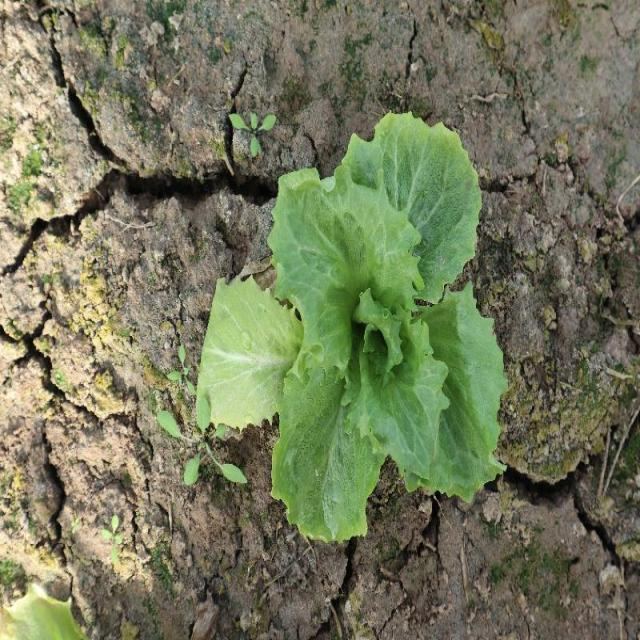crop: (195, 110, 510, 545)
